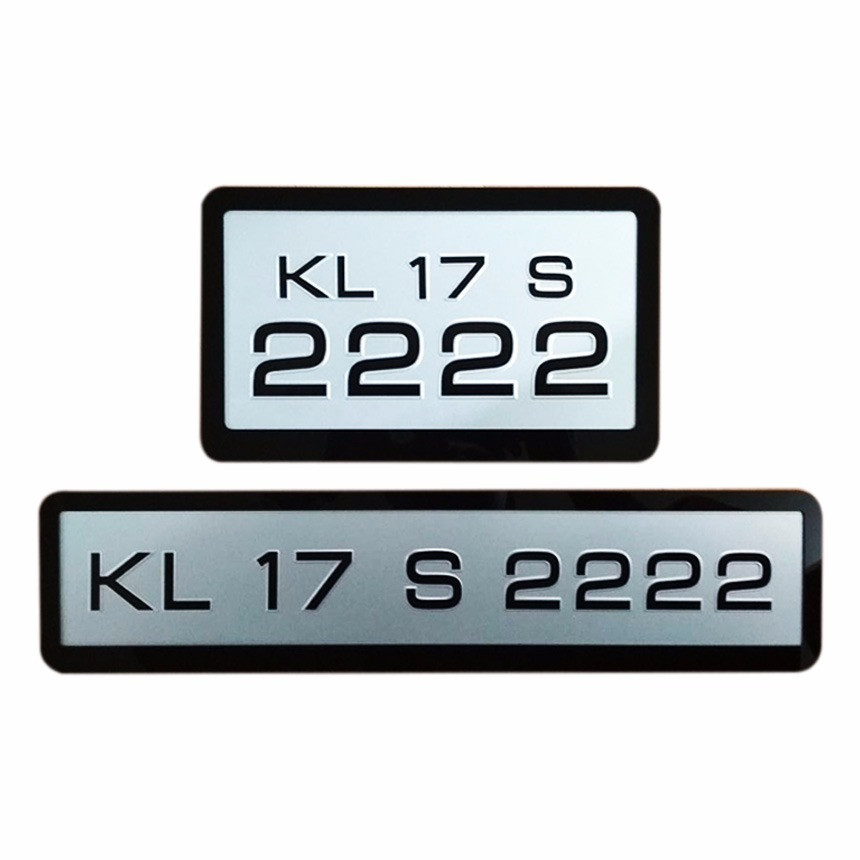number_plate: (37, 484, 828, 676), (195, 182, 663, 465)
